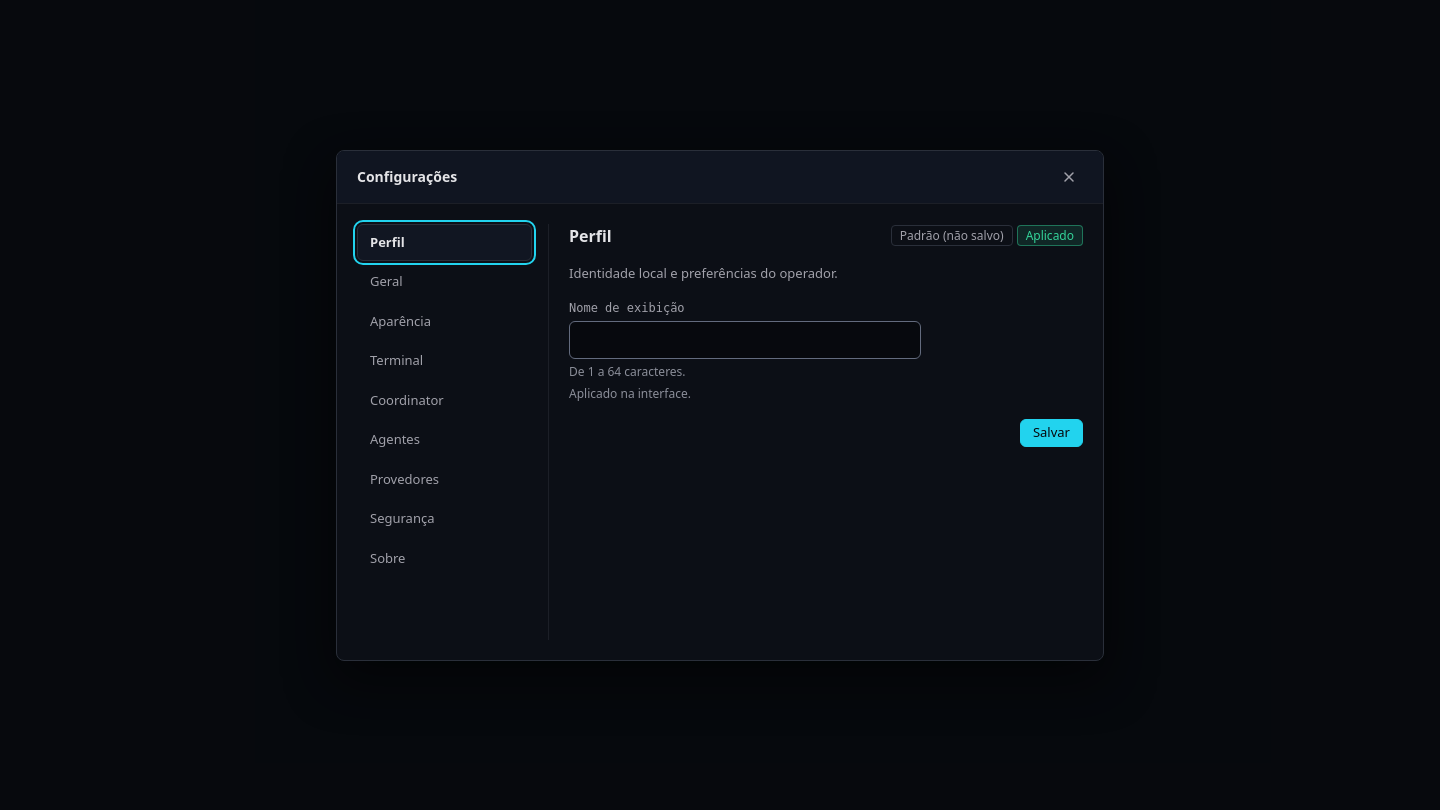
Test: SettingsDialog — Sobre › só consulta o atualizador quando Sobre está visível
Click the tab "Sobre" at (444, 558), box top-left (357, 540), bottom-right (532, 577)
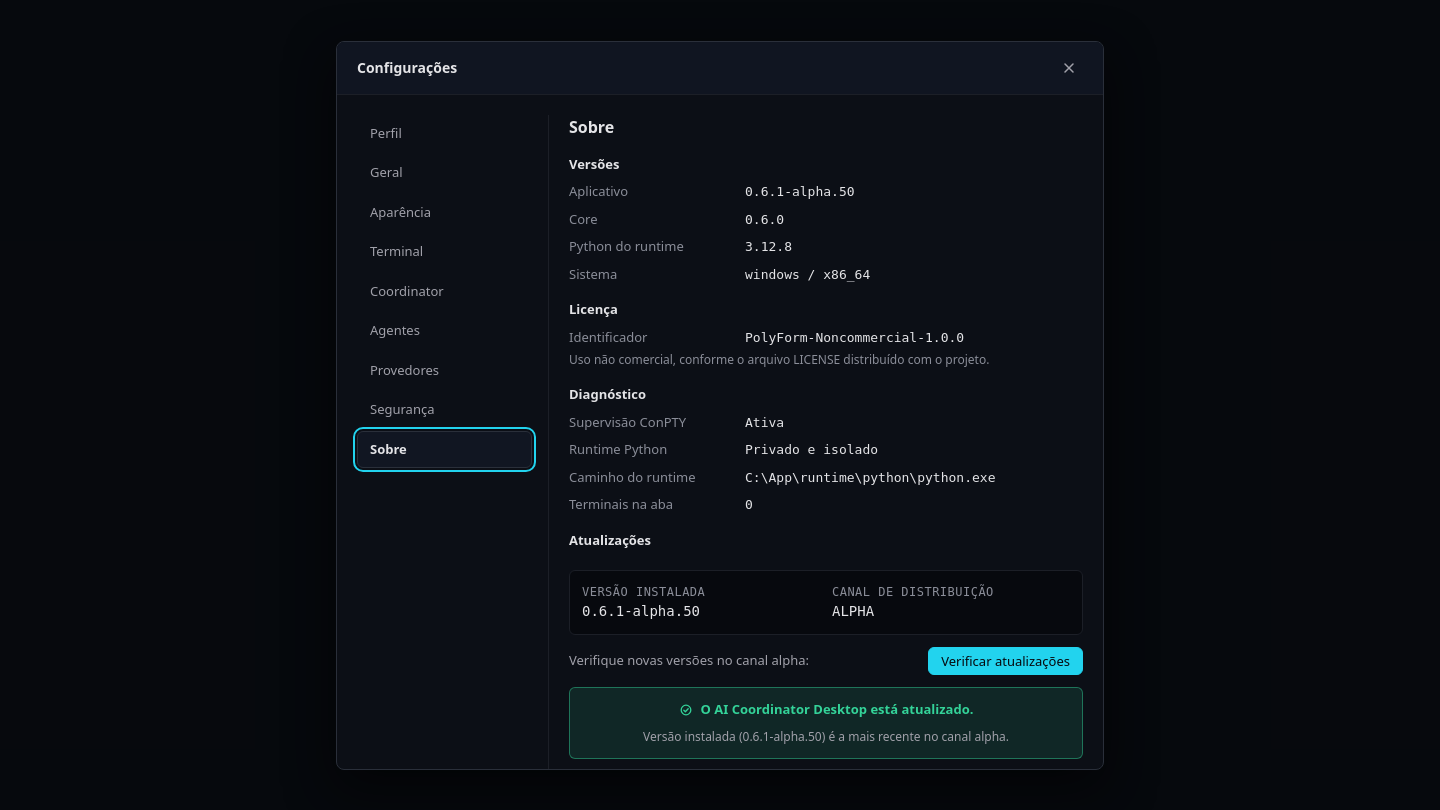
Now the text "O AI Coordinator Desktop está atualizado." is shown, box top-left (701, 700), bottom-right (974, 720)
